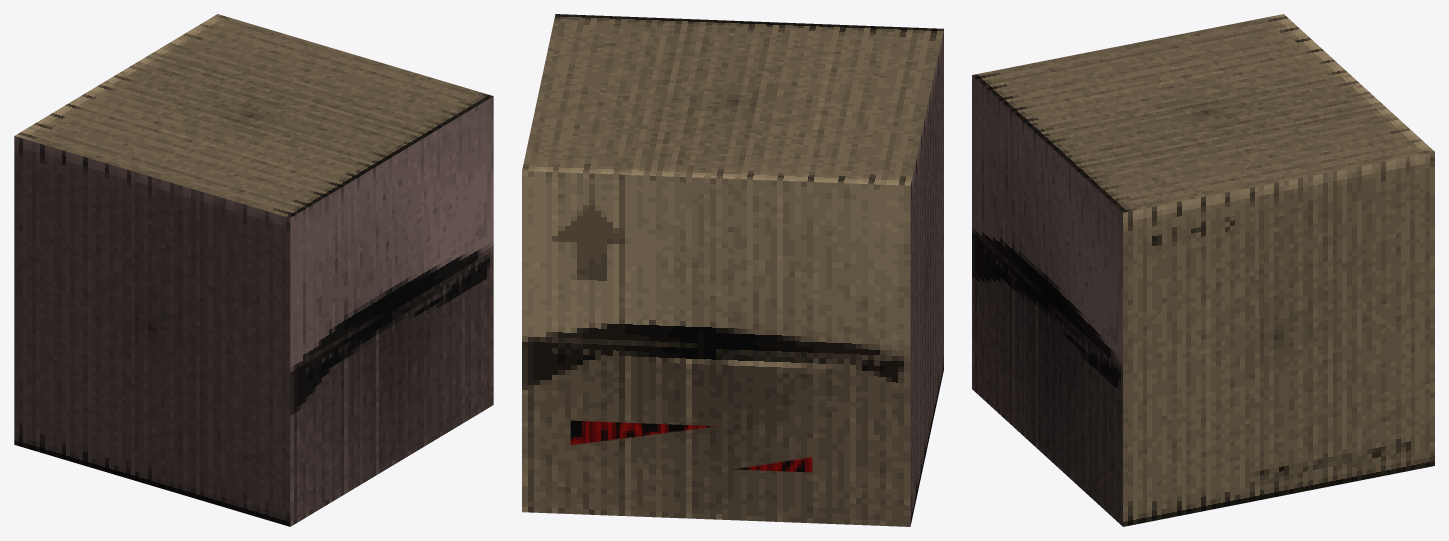
Rendered from primary_064.glb.
3 views of the same model, side by side, from view 1: azimuth 30°, elevation 25°; view 2: azimuth 150°, elevation 25°; view 3: azimuth 270°, elevation 25° (orthographic). The views are drawn at different scales.
Visible parts, largest first — view 1: Object; view 2: Object; view 3: Object.
Part boxes in pixels (box(x1,y1,x2,y2)): Object: box(14, 14, 493, 526); Object: box(522, 14, 943, 526); Object: box(972, 14, 1434, 526).
Bounding box in the file's own units: 1.45 × 1.07 × 1.43.
7 materials, 7 textured.
